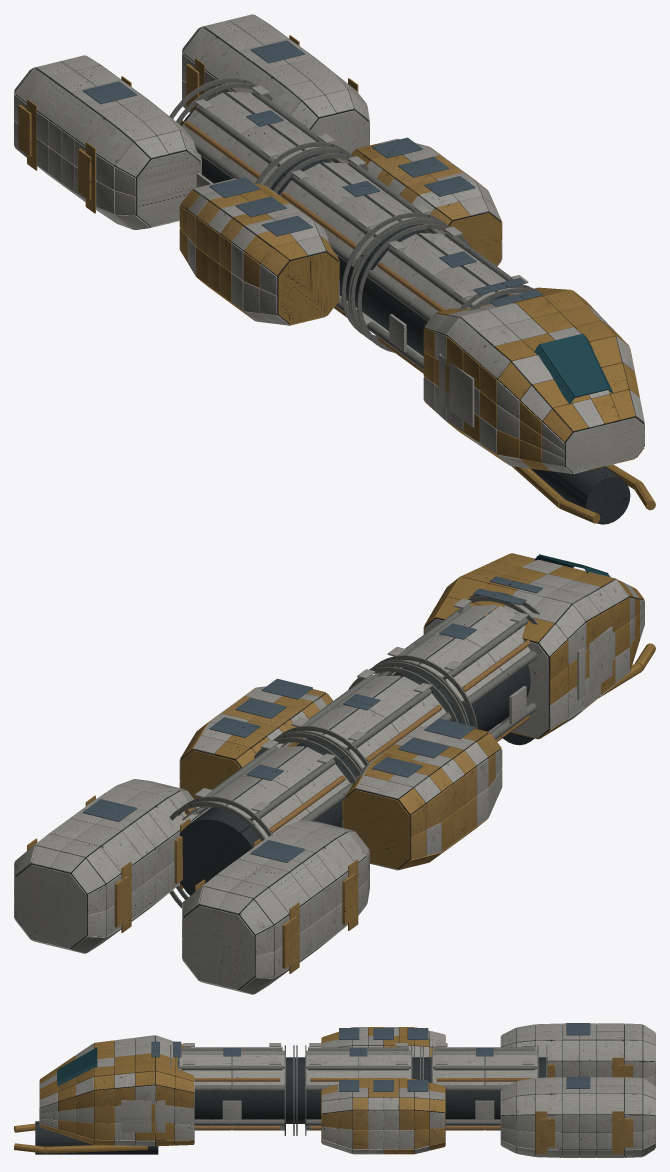
The model's file is model-outline.glb.
The picture shows the model from 3 angles, top to bottom: view 1: azimuth 30°, elevation 25°; view 2: azimuth 150°, elevation 25°; view 3: azimuth 270°, elevation 25°; orthographic projection. The views are drawn at different scales.
Parts seen in each view (by area): view 1: pale-steel-0, pale-steel-1, ochre-0, machined-alloy, pale-steel-2, ochre-1, dark-structure, blue-grey-1, ochre-2, canopy-glass, service-ochre, profiled-drive; view 2: pale-steel-0, pale-steel-1, ochre-0, machined-alloy, ochre-1, dark-structure, pale-steel-2, blue-grey-1, ochre-2, service-ochre, profiled-drive, sample-pannier; view 3: pale-steel-0, pale-steel-1, ochre-0, dark-structure, machined-alloy, pale-steel-2, ochre-1, blue-grey-1, ochre-2, service-ochre, profiled-drive, canopy-glass (+2 smaller).
Boxes of the visible parts, bbox=[...] form: pale-steel-0: bbox=[14, 14, 494, 323]; pale-steel-1: bbox=[188, 85, 644, 473]; ochre-0: bbox=[180, 144, 655, 523]; machined-alloy: bbox=[169, 78, 535, 369]; pale-steel-2: bbox=[193, 143, 521, 358]; ochre-1: bbox=[18, 35, 502, 315]; dark-structure: bbox=[184, 95, 630, 524]; blue-grey-1: bbox=[82, 40, 542, 307]; ochre-2: bbox=[179, 146, 493, 323]; canopy-glass: bbox=[534, 333, 613, 404]; service-ochre: bbox=[184, 121, 445, 373]; profiled-drive: bbox=[15, 27, 368, 226]; pale-steel-0: bbox=[14, 687, 488, 994]; pale-steel-1: bbox=[194, 560, 644, 855]; ochre-0: bbox=[180, 553, 655, 869]; machined-alloy: bbox=[169, 591, 540, 908]; ochre-1: bbox=[27, 696, 501, 973]; dark-structure: bbox=[180, 616, 534, 895]; pale-steel-2: bbox=[201, 605, 530, 870]; blue-grey-1: bbox=[82, 576, 542, 862]; ochre-2: bbox=[179, 688, 495, 869]; service-ochre: bbox=[184, 640, 530, 833]; profiled-drive: bbox=[15, 791, 367, 989]; sample-pannier: bbox=[181, 693, 500, 869]; pale-steel-0: bbox=[322, 1023, 655, 1157]; pale-steel-1: bbox=[39, 1027, 533, 1153]; ochre-0: bbox=[14, 1027, 445, 1154]; dark-structure: bbox=[35, 1057, 547, 1154]; machined-alloy: bbox=[170, 1045, 547, 1135]; pale-steel-2: bbox=[180, 1031, 444, 1154]; ochre-1: bbox=[322, 1027, 633, 1154]; blue-grey-1: bbox=[151, 1023, 590, 1091]; ochre-2: bbox=[322, 1045, 444, 1145]; service-ochre: bbox=[194, 1078, 532, 1129]; profiled-drive: bbox=[501, 1024, 654, 1157]; canopy-glass: bbox=[57, 1047, 97, 1085].
Bounding box in the file's own units: 19.72 × 11.21 × 62.66.
12 materials, 11 textured.
